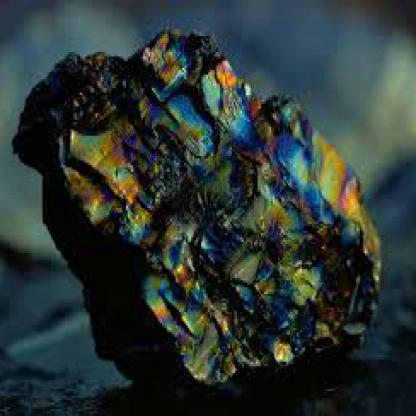Sedimentary_coal: (8, 18, 394, 407)
